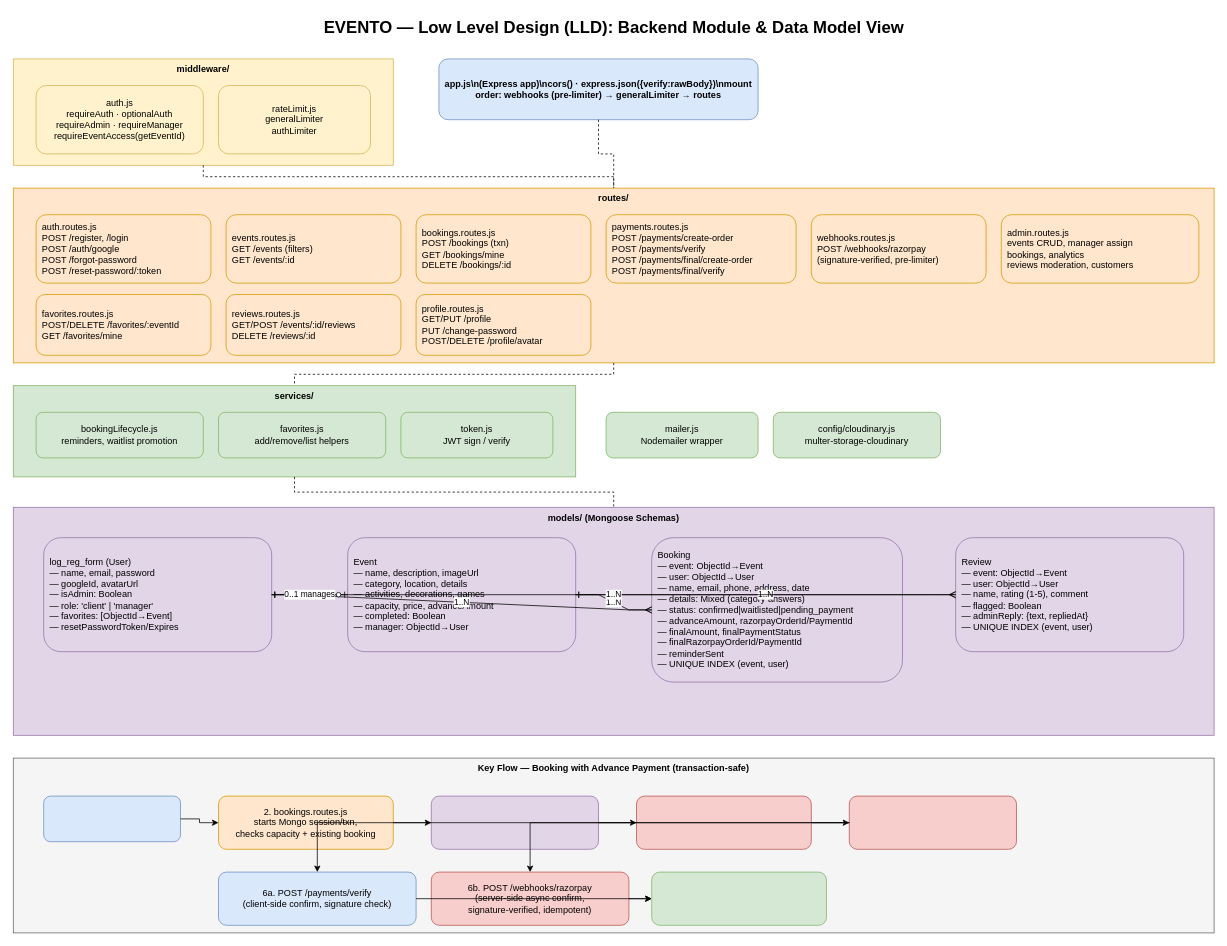
This 1227x946 diagram has some shape labels left out. Here are the shapes that lost their labels. From the top down, the centre of each, then its label:
(111,818): 1. Client POST /bookings
(514,822): 3. Booking.save() unique index (event,user) guards duplicate race
(723,822): 4. POST /payments/create-order → Razorpay order created
(932,822): 5. Client pays via Razorpay Checkout
(738,898): 7. Booking.status → 'confirmed', mailer sends confirmation email
